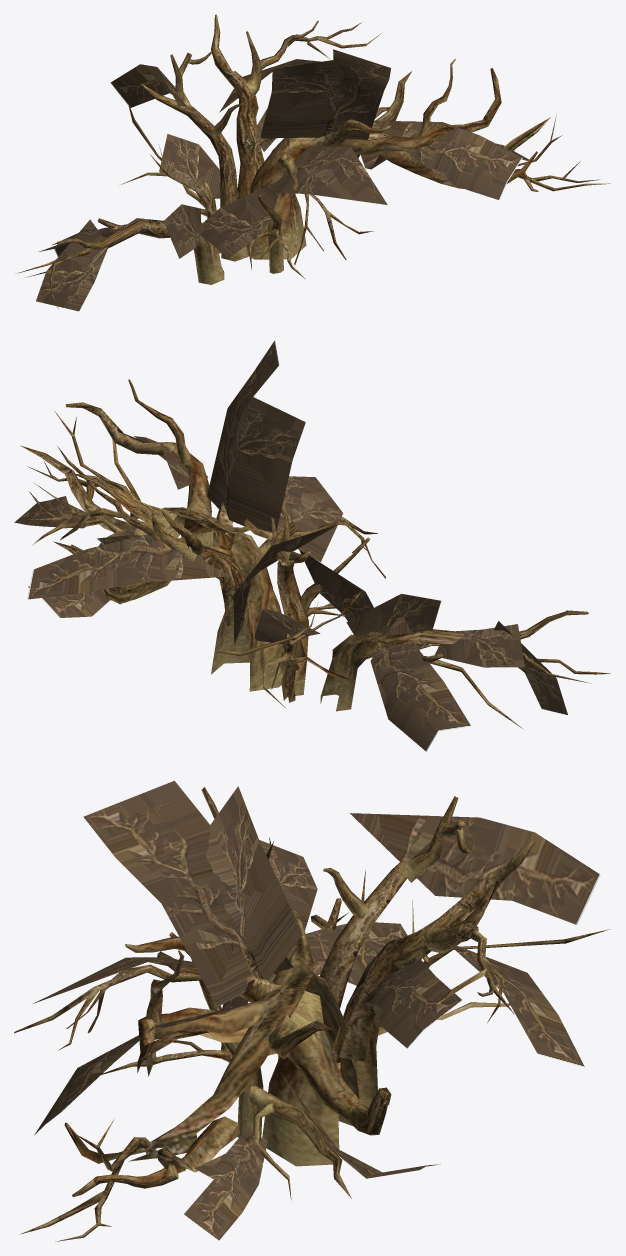
The model's file is S_Tree_Yellow045_1.FBX.
3 views of the same model, one above another, from view 1: azimuth 30°, elevation 25°; view 2: azimuth 150°, elevation 25°; view 3: azimuth 270°, elevation 25° (orthographic). The views are drawn at different scales.
Parts seen in each view (by area): view 1: S_Tree_Yellow045_1; view 2: S_Tree_Yellow045_1; view 3: S_Tree_Yellow045_1.
Part boxes in pixels (bbox=[...]): S_Tree_Yellow045_1: bbox=[17, 14, 610, 311]; S_Tree_Yellow045_1: bbox=[14, 340, 610, 751]; S_Tree_Yellow045_1: bbox=[14, 780, 610, 1241].
Bounding box in the file's own units: 1867 × 1098 × 806.
